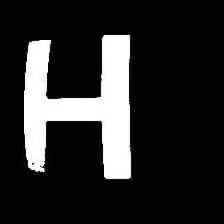LTR_H: (2, 19, 144, 187)
